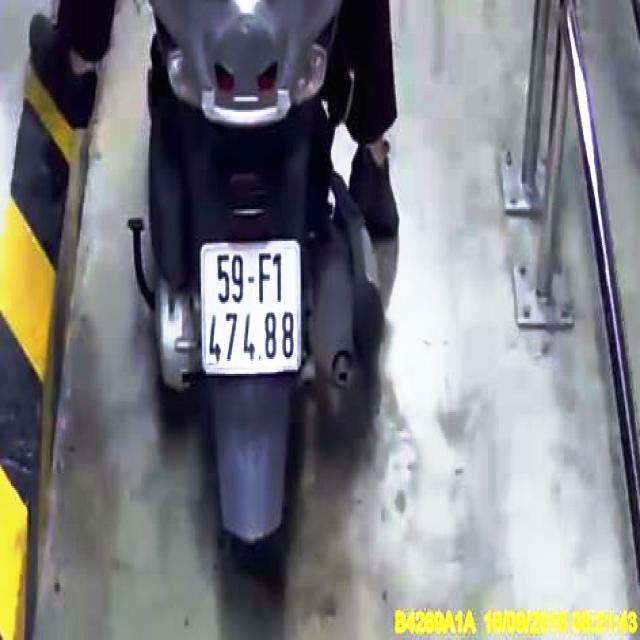license_plate: (201, 243, 302, 371)
